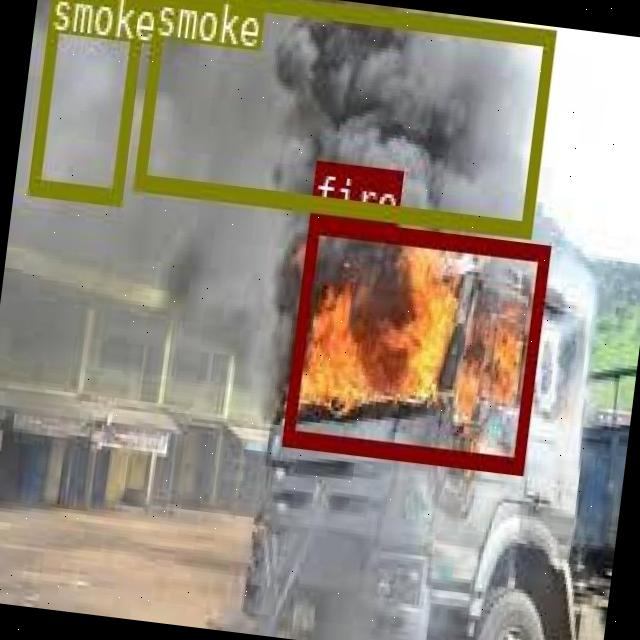fire: (280, 215, 548, 470)
smoke: (132, 0, 553, 234), (27, 0, 145, 202)
